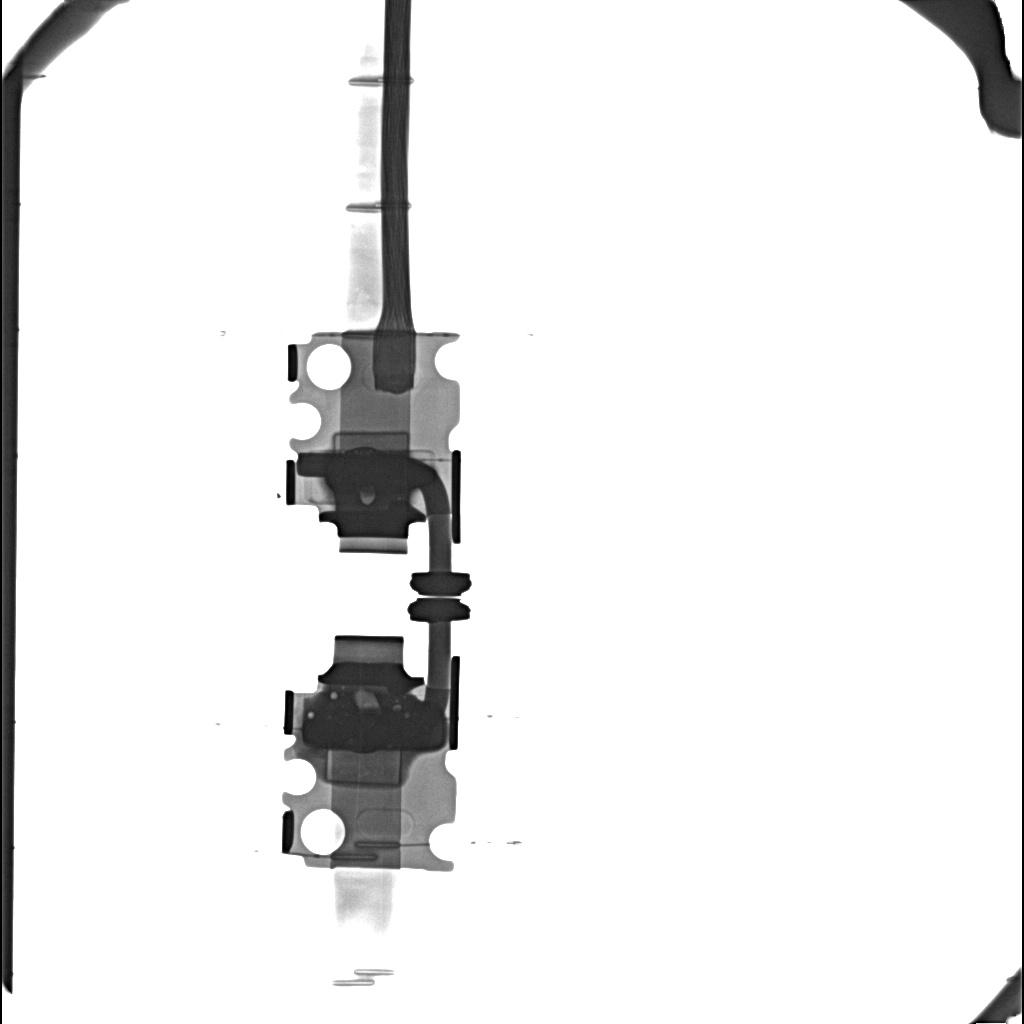defect: (303, 702, 445, 750), (327, 454, 435, 495), (324, 751, 403, 787), (332, 431, 410, 449), (355, 690, 380, 708), (361, 496, 375, 505), (332, 692, 338, 701)
